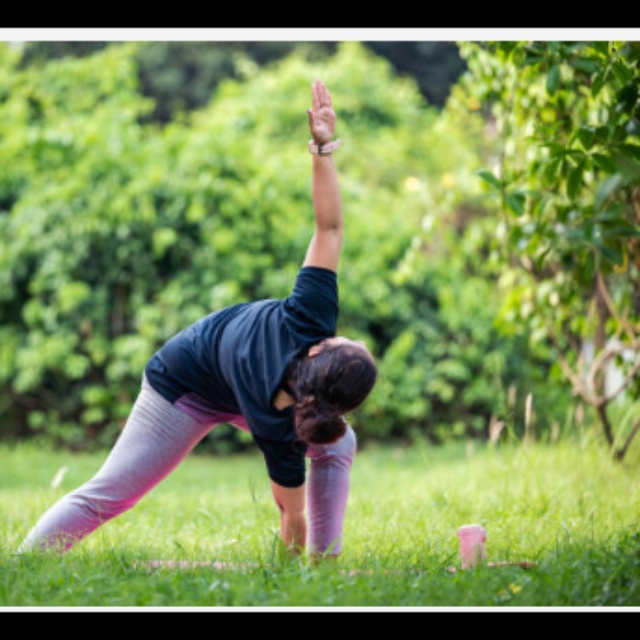Triangle_Pose: (7, 76, 380, 577)
